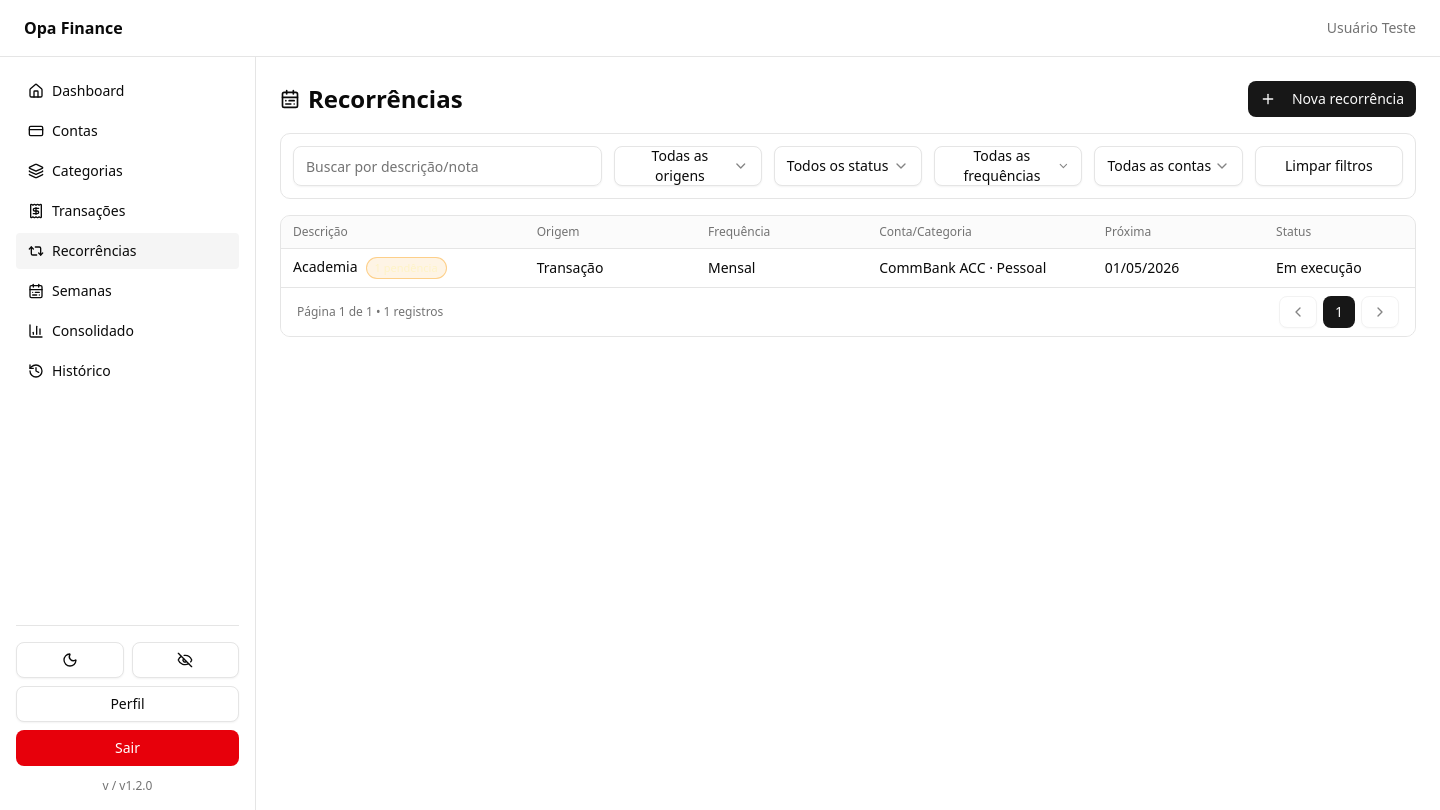
Test: recurrences feature › deve bloquear edição global logo após confirmar ocorrência mesmo com GET stale
expect the heading "Recorrências" is shown: met, box [280,83,463,115]
expect the text "Academia" is shown: met, box [293,257,358,276]
Click the button that starts with "Academia" at [325, 266], box [293,257,1362,279]
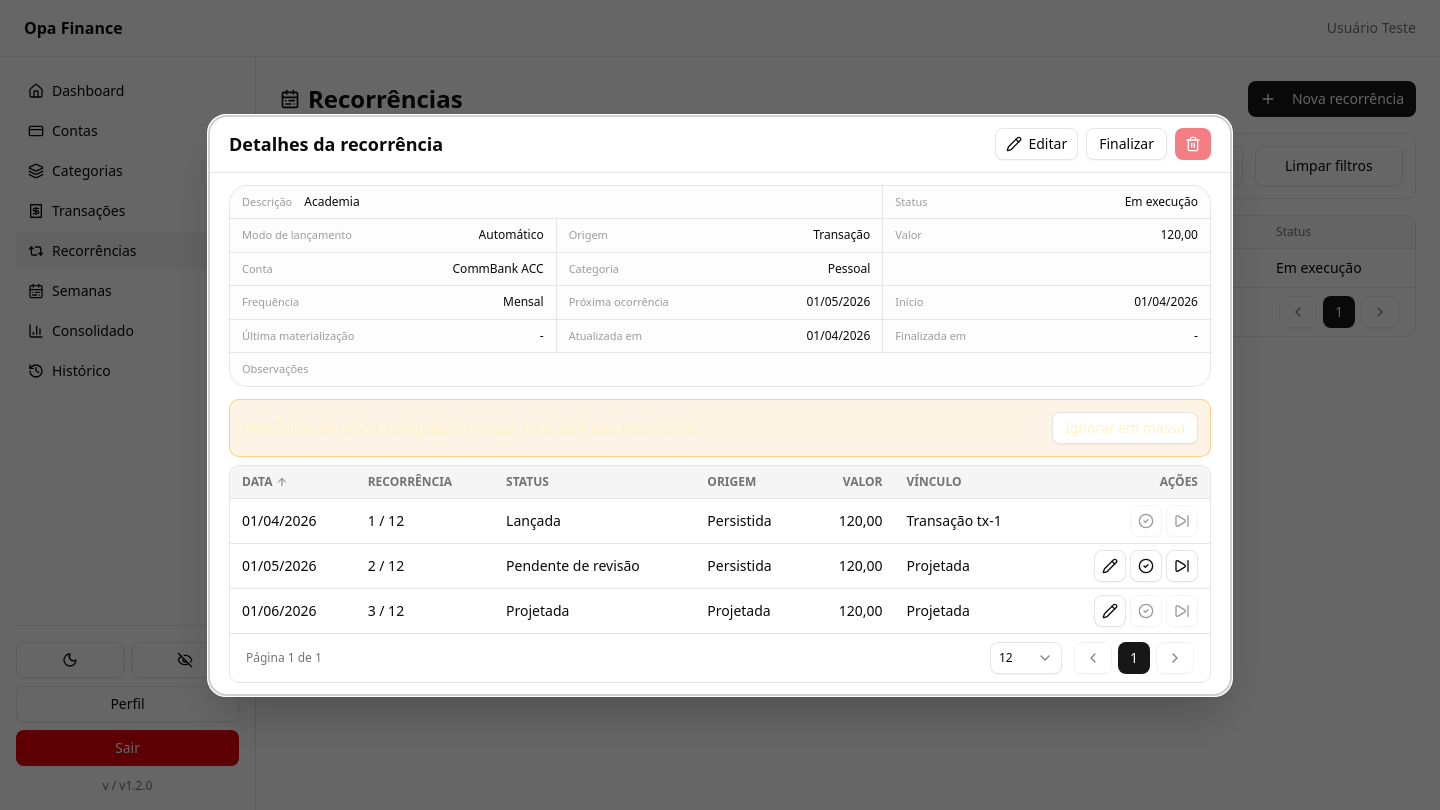
expect the button named "Confirmar ocorrência" in the row of "2 / 12" is shown: met
Click the button named "Confirmar ocorrência" in the row of "2 / 12" at [1146, 566], box [1130,550,1162,582]
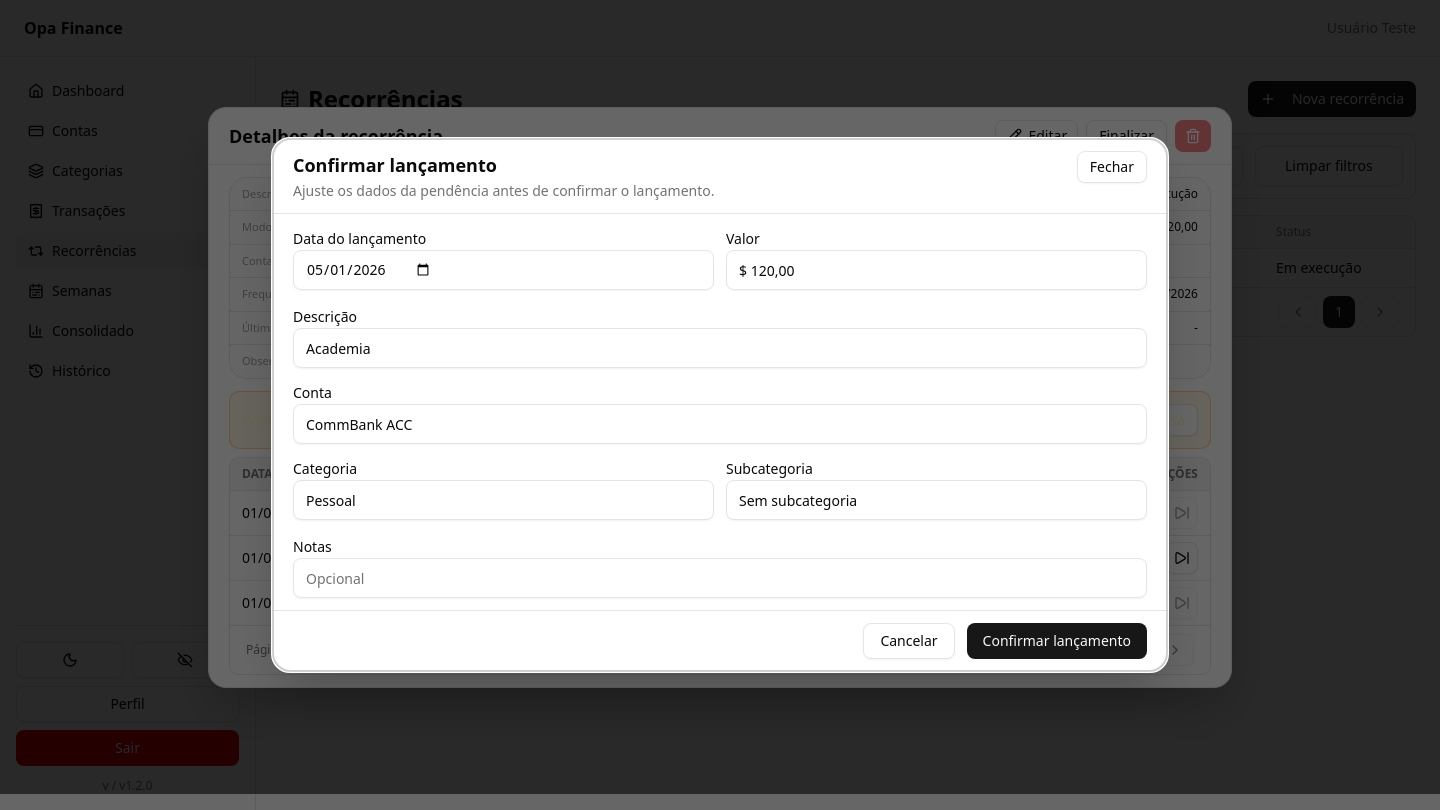
expect the heading "Confirmar lançamento" is shown: met, box [293,153,497,177]
Click the button "Confirmar lançamento" at [1057, 641], box [967,623,1147,659]
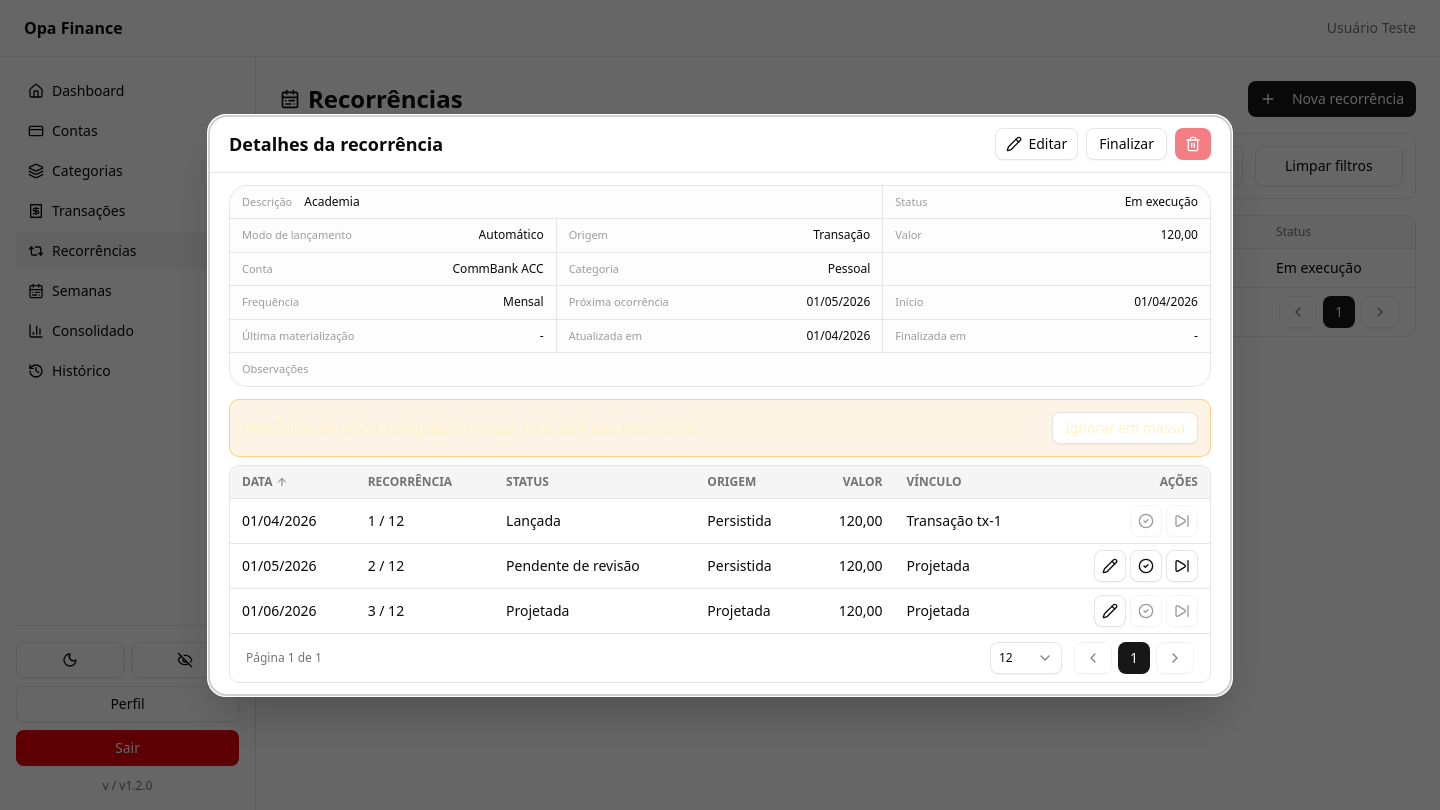
expect the heading "Confirmar lançamento" is gone: met
Click the button with aria-label "Editar recorrência" at [1037, 144], box [996,128,1078,160]
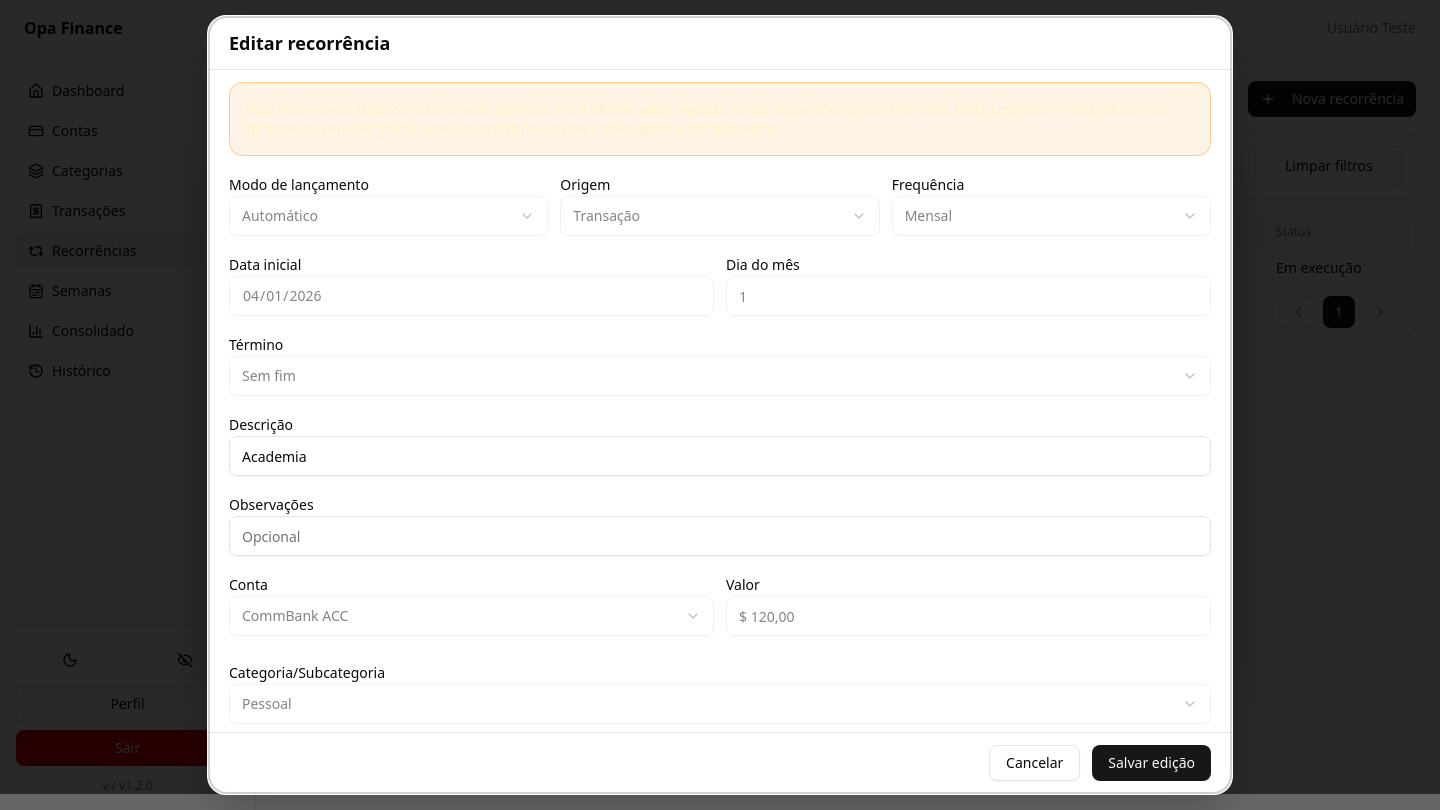
expect the text "Esta recorrência já possui ocorrências geradas" is shown: met, box [246,99,1170,138]
expect the dropdown named "Frequência" is disabled: met, box [892,196,1211,236]
expect the field labelled "Valor" is disabled: met, box [726,596,1211,636]
